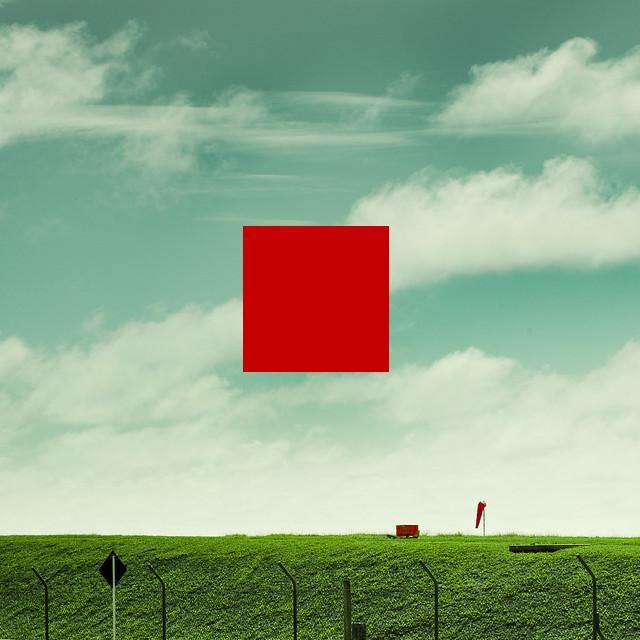RedSquare: (235, 215, 392, 378)
